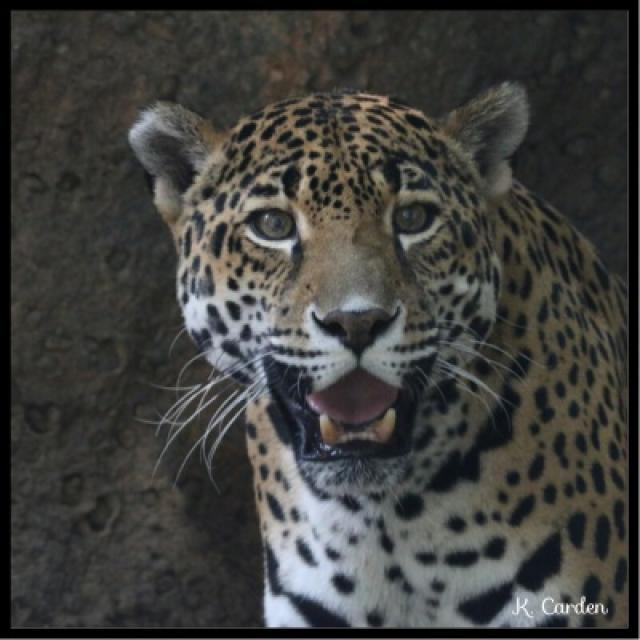Jaguar: (126, 82, 627, 634)
